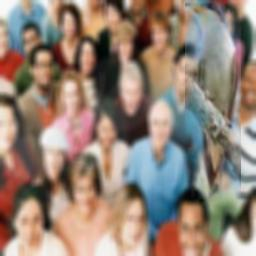Cuckoo: (185, 0, 241, 256)
